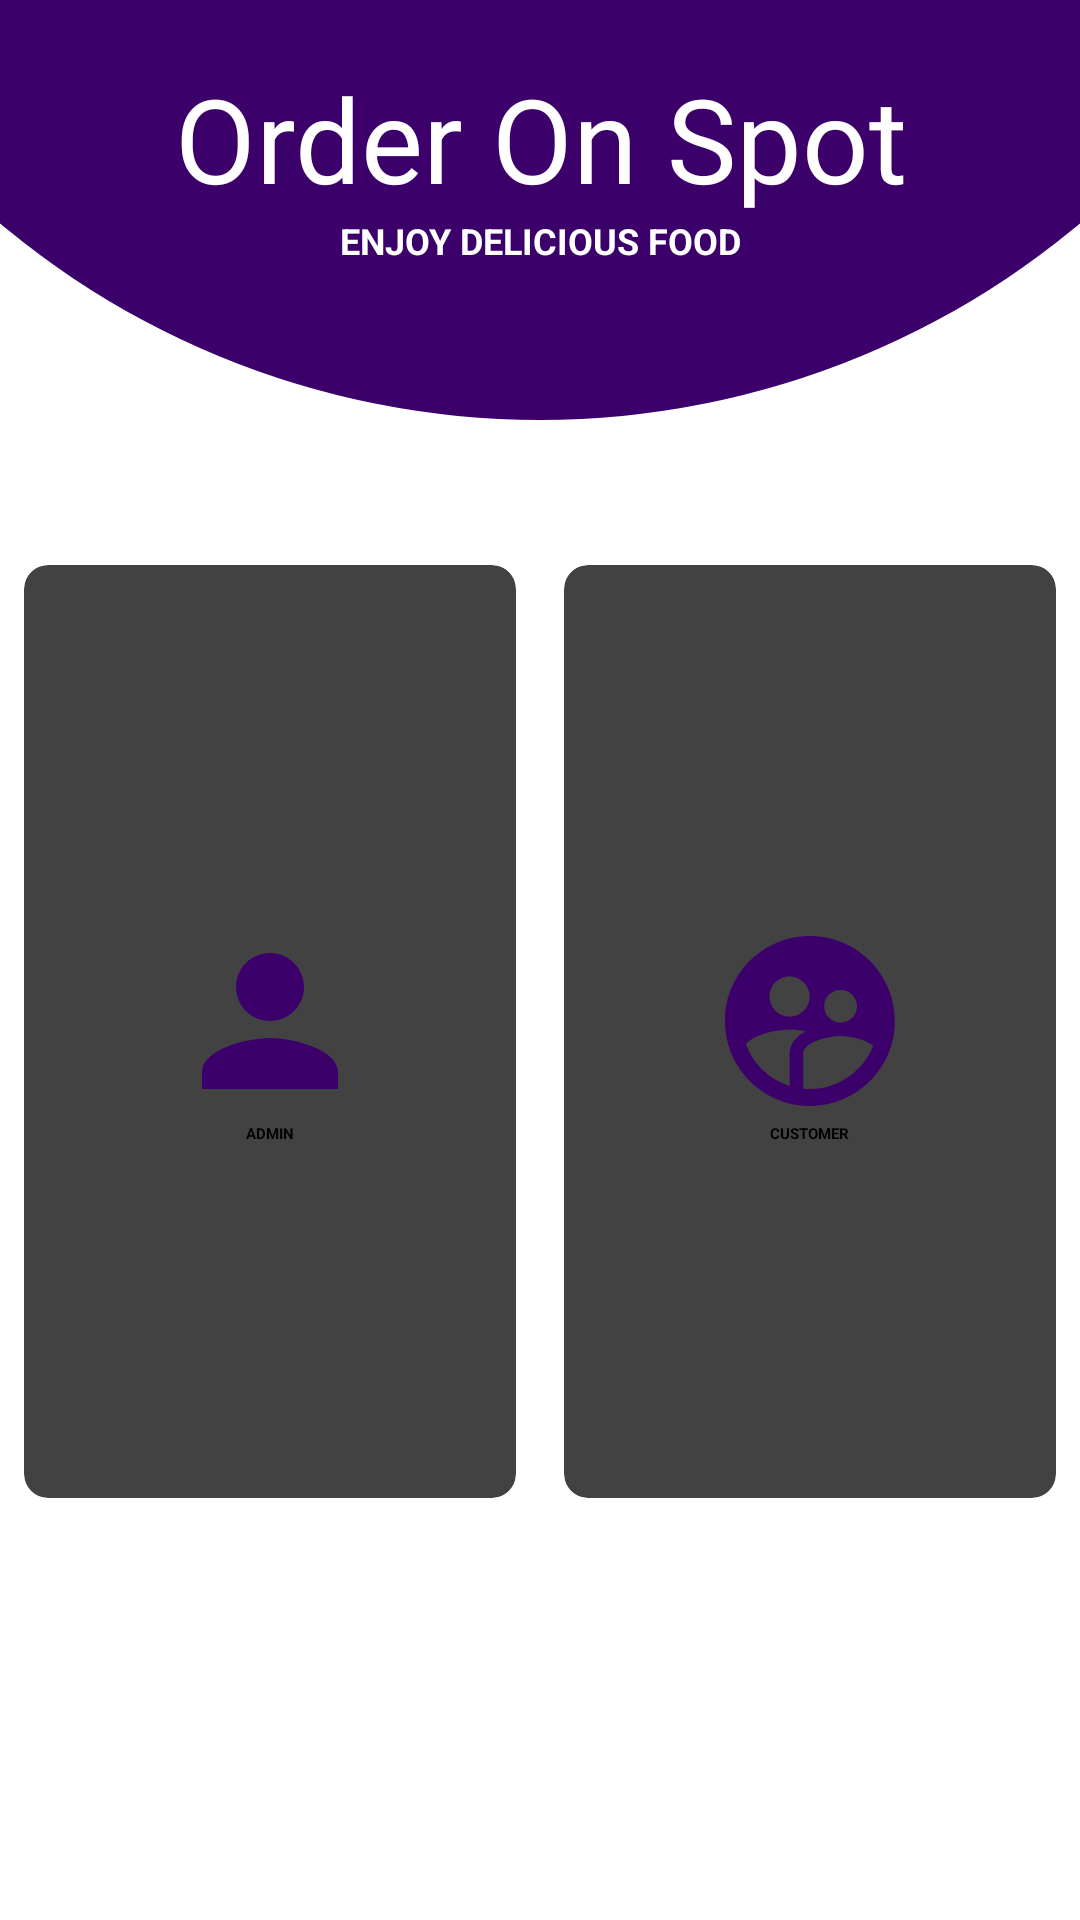

Icons on this 1080×1920 Android screen, each with its box as (x1, y1, x2, y2):
person: (202, 953, 338, 1089)
supervised user circle: (725, 936, 895, 1106)
